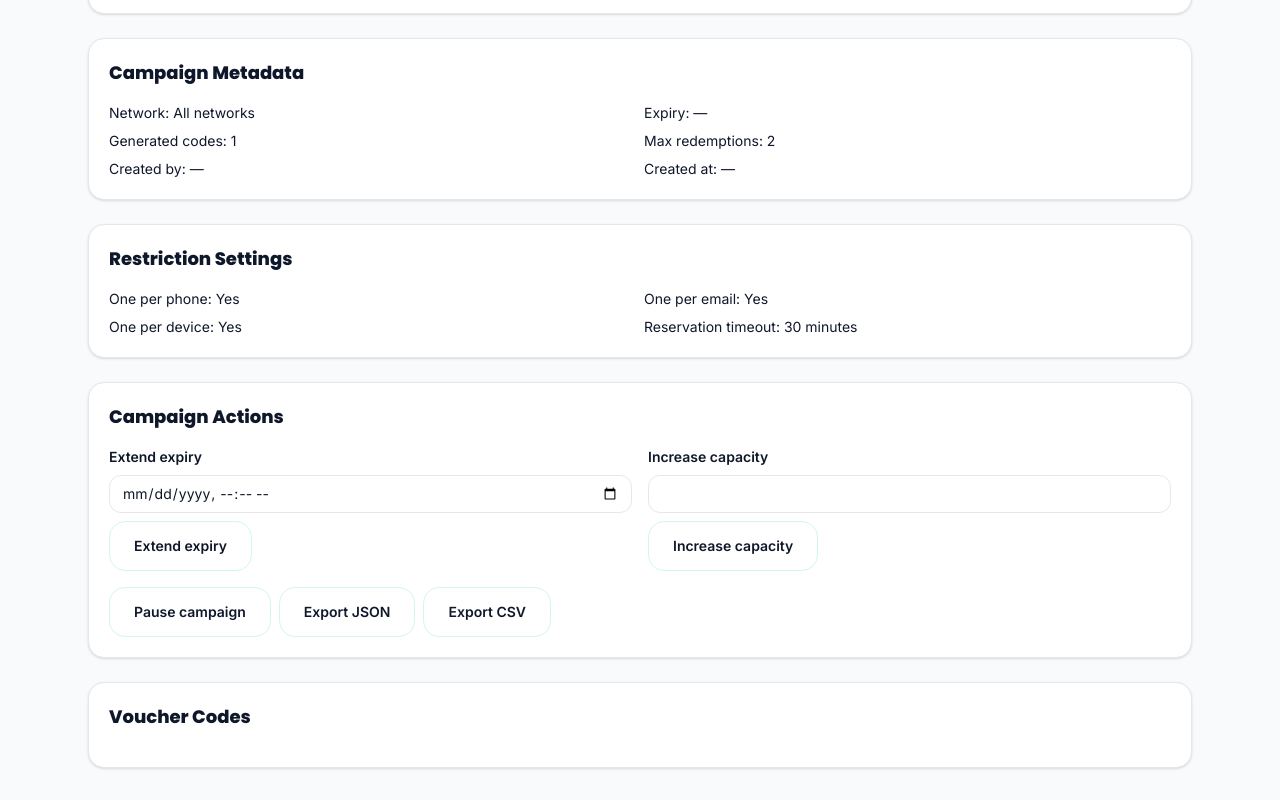
it: voucher CSV export buttons › shows readable API error when CSV download fails
(page scrolled)
Click the button "Export CSV".
click(487, 612)  # box 424,587 -> 551,637
(page scrolled)
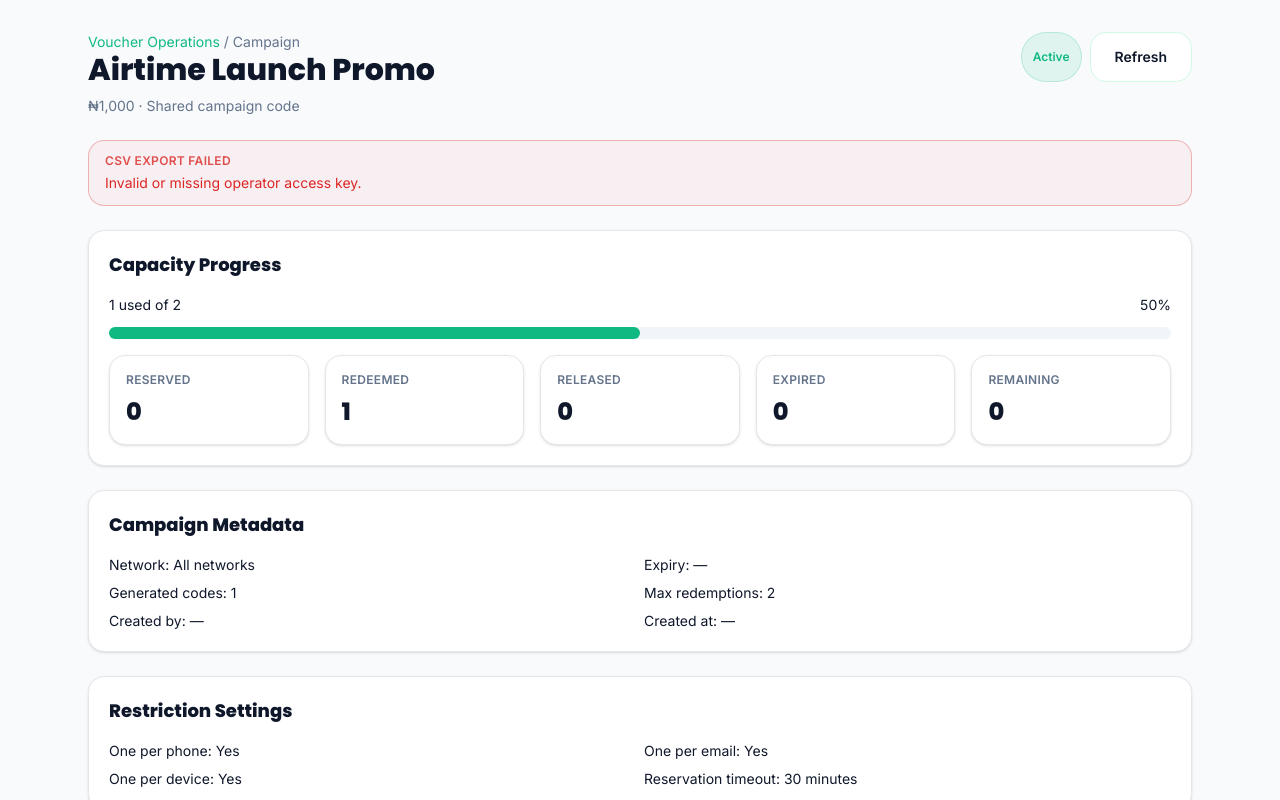
Now the text "Invalid or missing operator access key." is shown, box 105,173 -> 362,193
